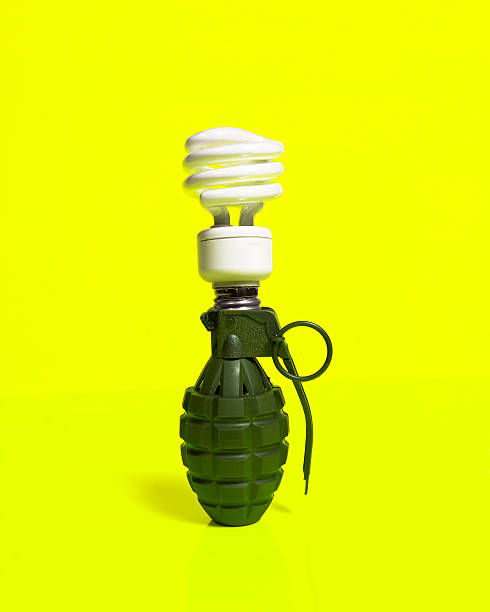e1: (178, 307, 334, 528)
